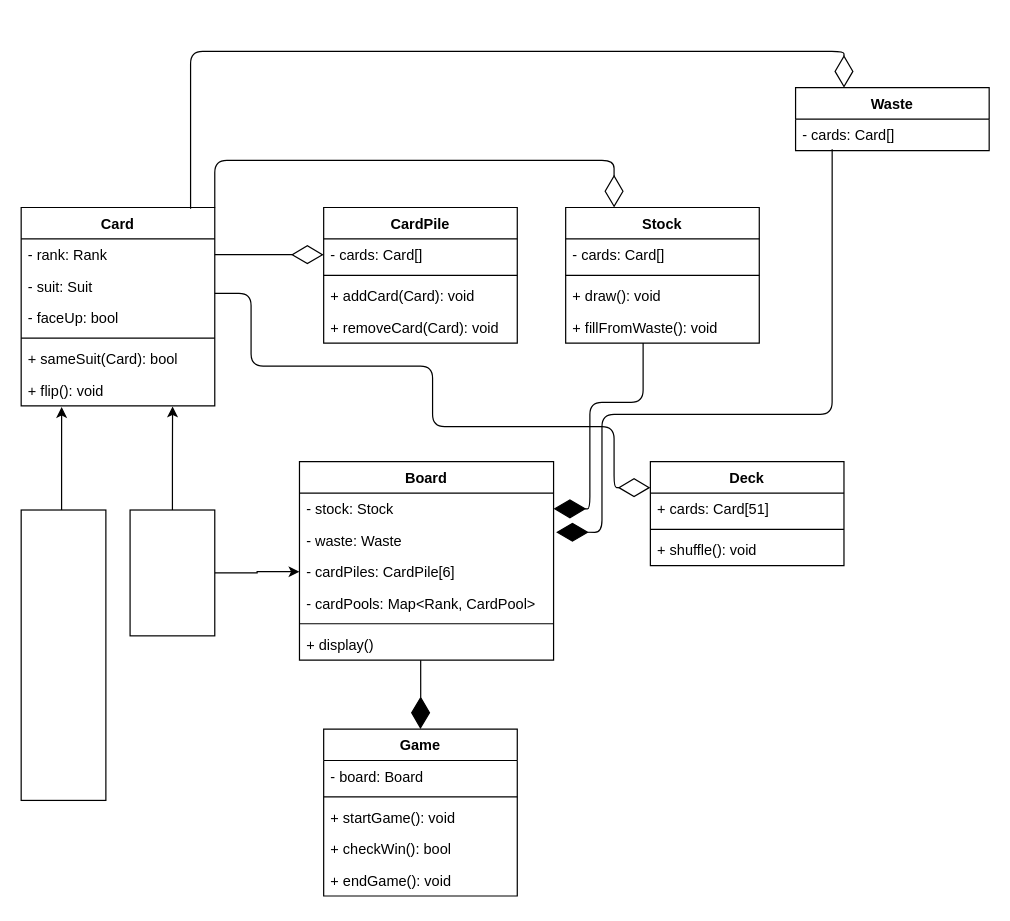
Some shapes in this 1010 by 921 pixel diagram are drawn without their labels. The shapes that lost their labels are listed below. From the top down, each one's centre as x and y in pixels, then its label:
At pixel 172 572: "<<Enum>> Suit Spade Club Heart Diamond".
At pixel 63 654: "<<Enum>> Rank 1 2 3 4 5 6 7 8 9 10 J Q K A".
